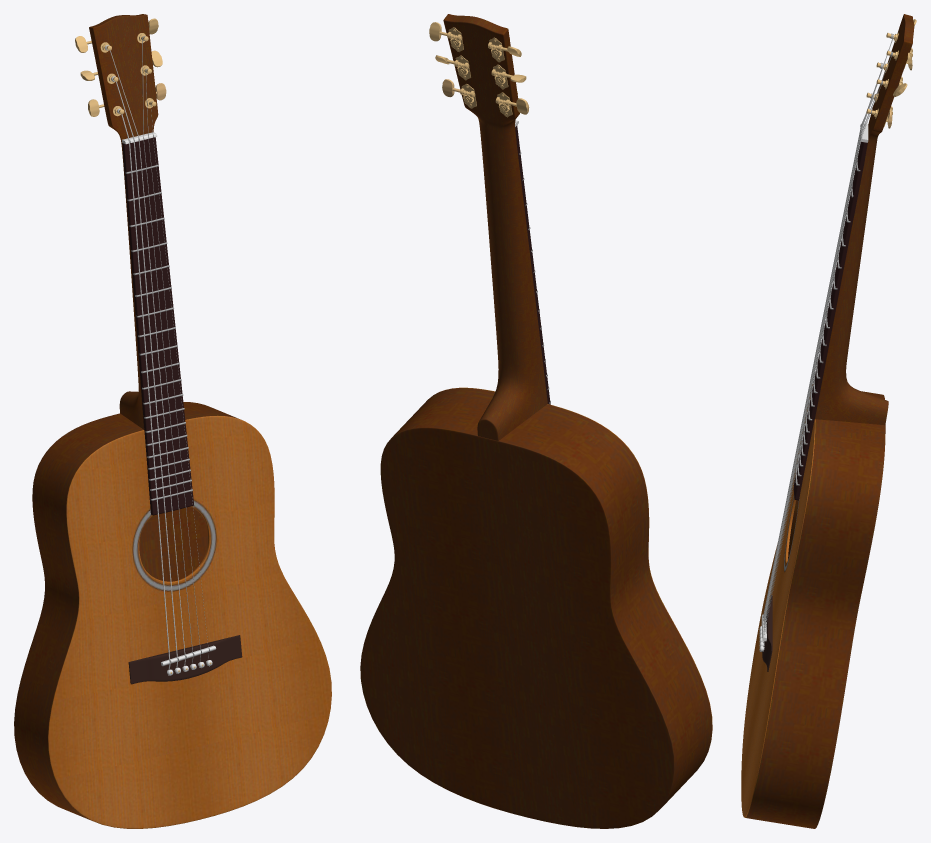
The model's file is guitar.glb.
3 views of the same model, side by side, from view 1: azimuth 30°, elevation 25°; view 2: azimuth 150°, elevation 25°; view 3: azimuth 270°, elevation 25° (orthographic). The views are drawn at different scales.
Visible parts, largest first — view 1: guitar-body, guitar-fretboard, guitar-neck, guitar-bridge, string.004, string.005, string.003, string.002, string.001; view 2: guitar-body, guitar-neck, guitar-fretboard; view 3: guitar-body, guitar-neck, guitar-fretboard, string.004, string.003, string.002, string.005, string.001, guitar-bridge, string.000.
Part boxes in pixels (x1,y1,x2,y2): guitar-body: [14, 402, 331, 828]; guitar-fretboard: [122, 137, 194, 515]; guitar-neck: [89, 14, 158, 429]; guitar-bridge: [128, 635, 242, 684]; string.004: [111, 76, 178, 667]; string.005: [117, 108, 170, 669]; string.003: [105, 45, 185, 665]; string.002: [142, 36, 193, 663]; string.001: [145, 68, 200, 661]; guitar-body: [360, 387, 712, 828]; guitar-neck: [443, 14, 547, 440]; guitar-fretboard: [515, 125, 550, 404]; guitar-body: [741, 384, 885, 828]; guitar-neck: [815, 14, 914, 425]; guitar-fretboard: [793, 142, 867, 500]; string.004: [763, 62, 883, 621]; string.003: [763, 33, 893, 624]; string.002: [764, 51, 893, 627]; string.005: [763, 93, 874, 617]; string.001: [764, 80, 883, 642]; guitar-bridge: [762, 595, 772, 671]; string.000: [764, 110, 872, 646].
Bounding box in the file's own units: 3.65 × 9.3 × 1.91.
Materials: 9 (1 with a texture image).
